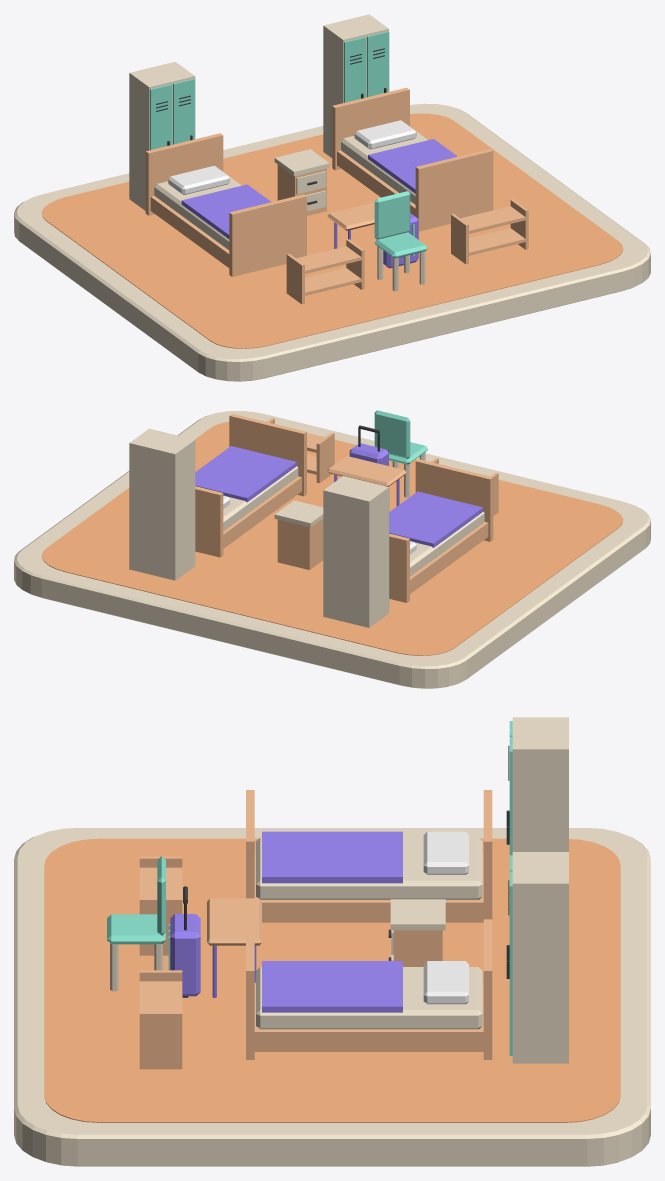
3 views of the same model, one above another, from view 1: azimuth 30°, elevation 25°; view 2: azimuth 150°, elevation 25°; view 3: azimuth 270°, elevation 25° (orthographic). The views are drawn at different scales.
Visible parts, largest first — view 1: COM-02 Floor Surface, COM-01 Rounded Base Direct, End board, End board.002, Case, Case.001, End board.001, End board.003, Blanket, Blanket.001, Backrest, Mattress (+19 smaller); view 2: COM-02 Floor Surface, COM-01 Rounded Base Direct, Case.001, Case, Blanket.001, Blanket, End board, End board.002, Body, End board.003, Frame.001, Frame (+8 smaller); view 3: COM-02 Floor Surface, COM-01 Rounded Base Direct, Case.001, Case, Blanket, Blanket.001, Mattress.001, Mattress, Frame.001, Frame, Side.003, Rounded table top (+15 smaller).
Boxes of the visible parts, x1=… form: COM-02 Floor Surface: x1=41, y1=113, x2=623, y2=348; COM-01 Rounded Base Direct: x1=14, y1=103, x2=650, y2=381; End board: x1=229, y1=194, x2=306, y2=276; End board.002: x1=415, y1=149, x2=493, y2=231; Case: x1=129, y1=61, x2=195, y2=210; Case.001: x1=323, y1=14, x2=388, y2=157; End board.001: x1=145, y1=133, x2=223, y2=215; End board.003: x1=332, y1=87, x2=409, y2=170; Blanket: x1=181, y1=184, x2=271, y2=238; Blanket.001: x1=368, y1=139, x2=457, y2=193; Backrest: x1=374, y1=191, x2=410, y2=239; Mattress: x1=154, y1=169, x2=241, y2=250; COM-02 Floor Surface: x1=41, y1=421, x2=623, y2=655; COM-01 Rounded Base Direct: x1=14, y1=411, x2=650, y2=688; Case.001: x1=129, y1=428, x2=195, y2=580; Case: x1=323, y1=476, x2=388, y2=627; Blanket.001: x1=195, y1=446, x2=296, y2=502; Blanket: x1=389, y1=491, x2=483, y2=547; End board: x1=415, y1=459, x2=493, y2=541; End board.002: x1=229, y1=413, x2=306, y2=496; Body: x1=277, y1=518, x2=323, y2=569; End board.003: x1=195, y1=486, x2=223, y2=557; Frame.001: x1=223, y1=476, x2=301, y2=548; Frame: x1=410, y1=522, x2=488, y2=593; COM-02 Floor Surface: x1=44, y1=838, x2=620, y2=1122; COM-01 Rounded Base Direct: x1=14, y1=828, x2=650, y2=1166; Case.001: x1=512, y1=852, x2=568, y2=1063; Case: x1=512, y1=717, x2=568, y2=851; Blanket: x1=262, y1=831, x2=402, y2=883; Blanket.001: x1=262, y1=961, x2=402, y2=1012; Mattress.001: x1=256, y1=967, x2=482, y2=1029; Mattress: x1=256, y1=837, x2=482, y2=899; Frame.001: x1=254, y1=982, x2=483, y2=1051; Frame: x1=254, y1=853, x2=483, y2=922; Side.003: x1=139, y1=1012, x2=182, y2=1069; Rounded table top: x1=207, y1=898, x2=261, y2=945.
Bounding box in the file's own units: 6 × 1.92 × 5.2.
Materials: 1 (1 with a texture image).
